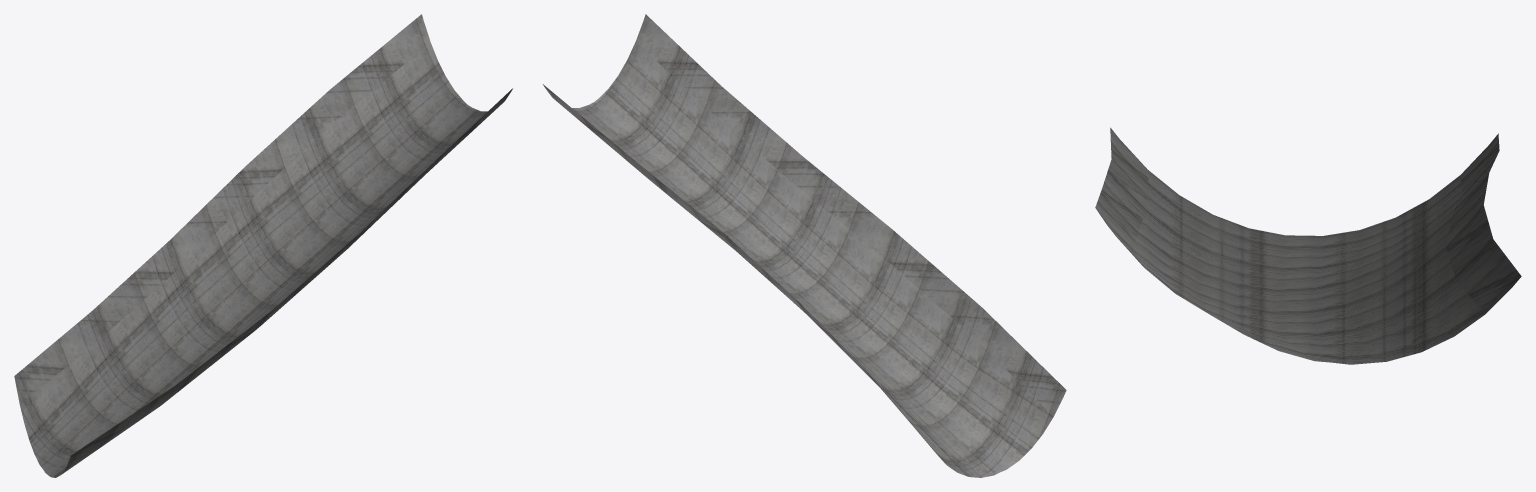
The model's file is SM_ICE00_02.fbx.
The picture shows the model from 3 angles, left to right: view 1: azimuth 30°, elevation 25°; view 2: azimuth 150°, elevation 25°; view 3: azimuth 270°, elevation 25°; orthographic projection. The views are drawn at different scales.
Visible parts, largest first — view 1: SM_ICE00_02; view 2: SM_ICE00_02; view 3: SM_ICE00_02.
Part boxes in pixels (left/top/right/bottom): SM_ICE00_02: left=14, top=14, right=512, bottom=477; SM_ICE00_02: left=543, top=14, right=1066, bottom=477; SM_ICE00_02: left=1095, top=127, right=1521, bottom=364.
Bounding box in the file's own units: 8651 × 6034 × 3667.
